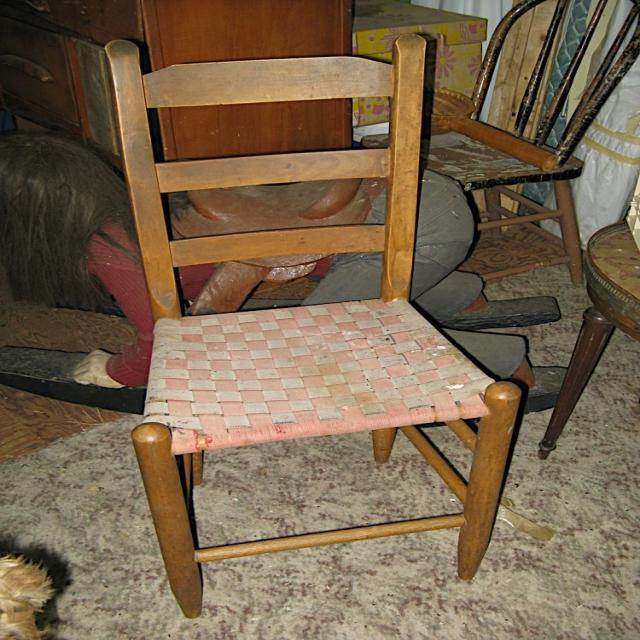chair: (101, 35, 532, 618), (352, 0, 639, 286)
